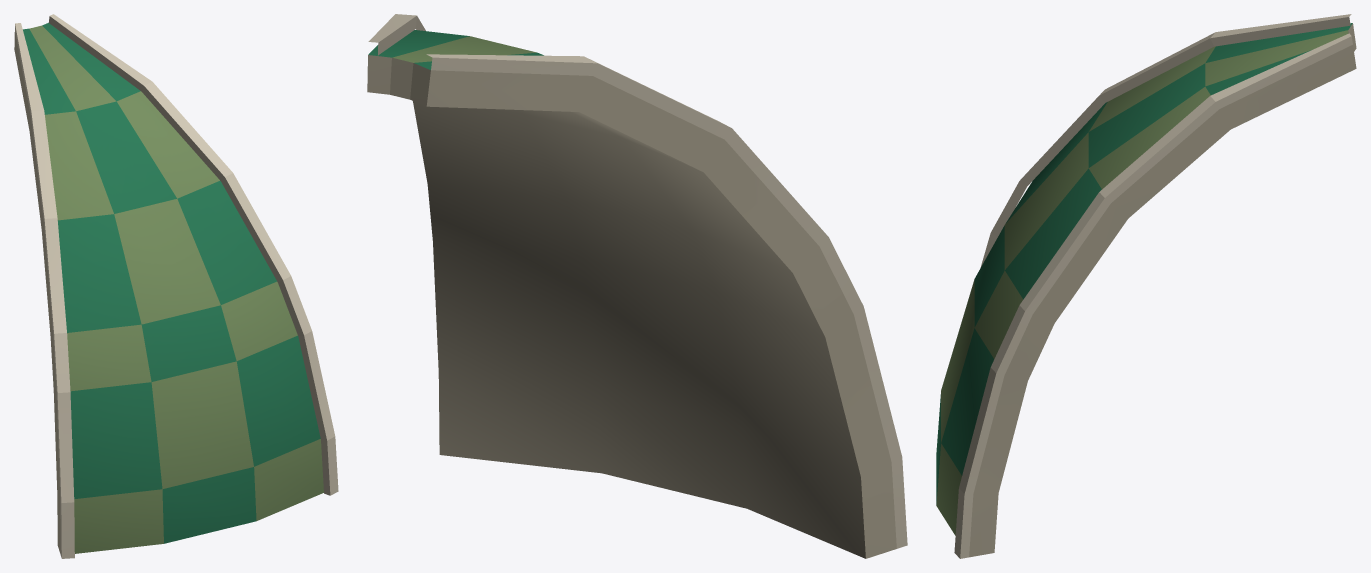
The model's file is dome.panel_8.green.glb.
3 renders of one model, left to right at view 1: azimuth 30°, elevation 25°; view 2: azimuth 150°, elevation 25°; view 3: azimuth 270°, elevation 25°, orthographic. The views are drawn at different scales.
Visible parts, largest first — view 1: dome_panel_8_green; view 2: dome_panel_8_green; view 3: dome_panel_8_green.
Part boxes in pixels (x1,y1,x2,y2): dome_panel_8_green: (14,14,338,558); dome_panel_8_green: (367,14,907,558); dome_panel_8_green: (936,14,1356,558).
Size of what is drawn, in the model's own units: 2.73 by 3.63 by 3.05.
